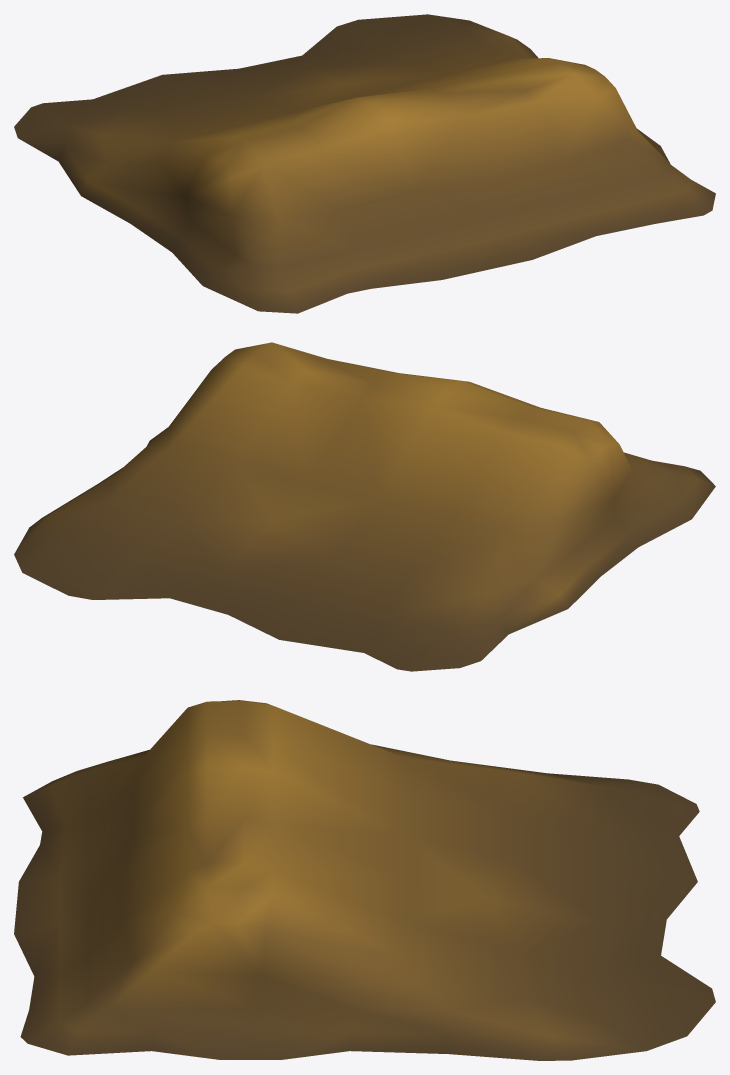
Rendered from Dirt_Ramp_1A.fbx.
3 renders of one model, top to bottom at view 1: azimuth 30°, elevation 25°; view 2: azimuth 150°, elevation 25°; view 3: azimuth 270°, elevation 25°, orthographic. The views are drawn at different scales.
Parts seen in each view (by area): view 1: Dirt_Ramp_1A; view 2: Dirt_Ramp_1A; view 3: Dirt_Ramp_1A.
Part boxes in pixels (x1,y1,x2,y2): Dirt_Ramp_1A: (14, 14, 715, 313); Dirt_Ramp_1A: (14, 342, 715, 671); Dirt_Ramp_1A: (14, 700, 715, 1060).
Size of the model in its own units: 2122 by 436 by 2177.
